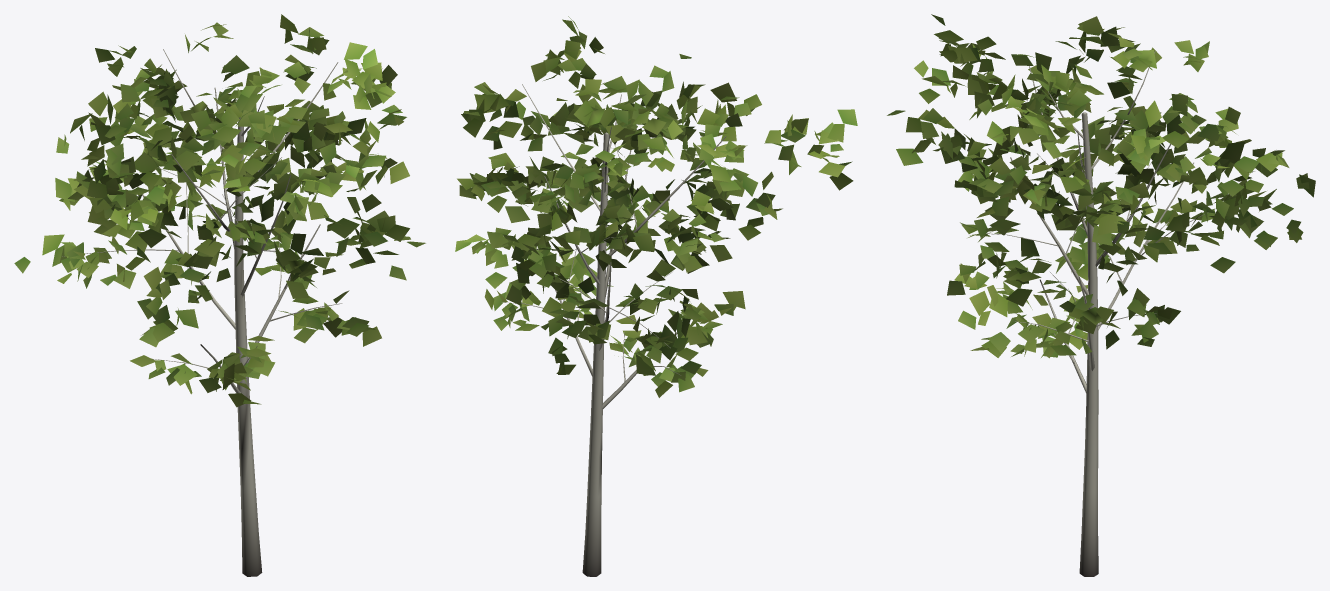
File: birch-a.lod1.glb
The picture shows the model from 3 angles, left to right: view 1: azimuth 30°, elevation 25°; view 2: azimuth 150°, elevation 25°; view 3: azimuth 270°, elevation 25°; orthographic projection. The views are drawn at different scales.
Size of the model in its own units: 7.66 by 10.93 by 8.06.
